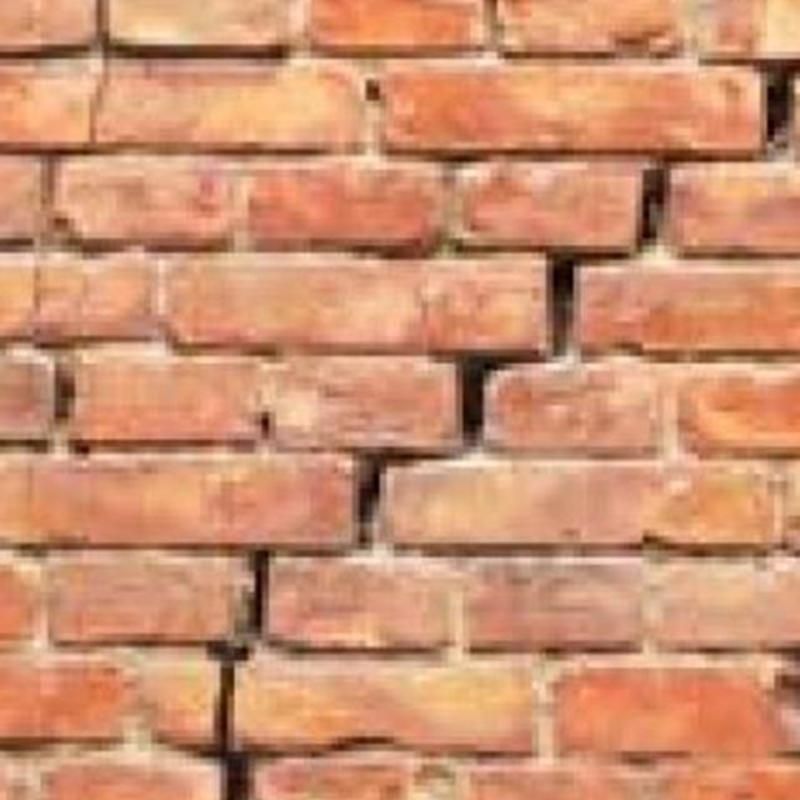crack: (456, 161, 669, 448), (24, 0, 114, 372), (208, 550, 270, 799), (353, 452, 457, 548), (764, 67, 788, 137)
